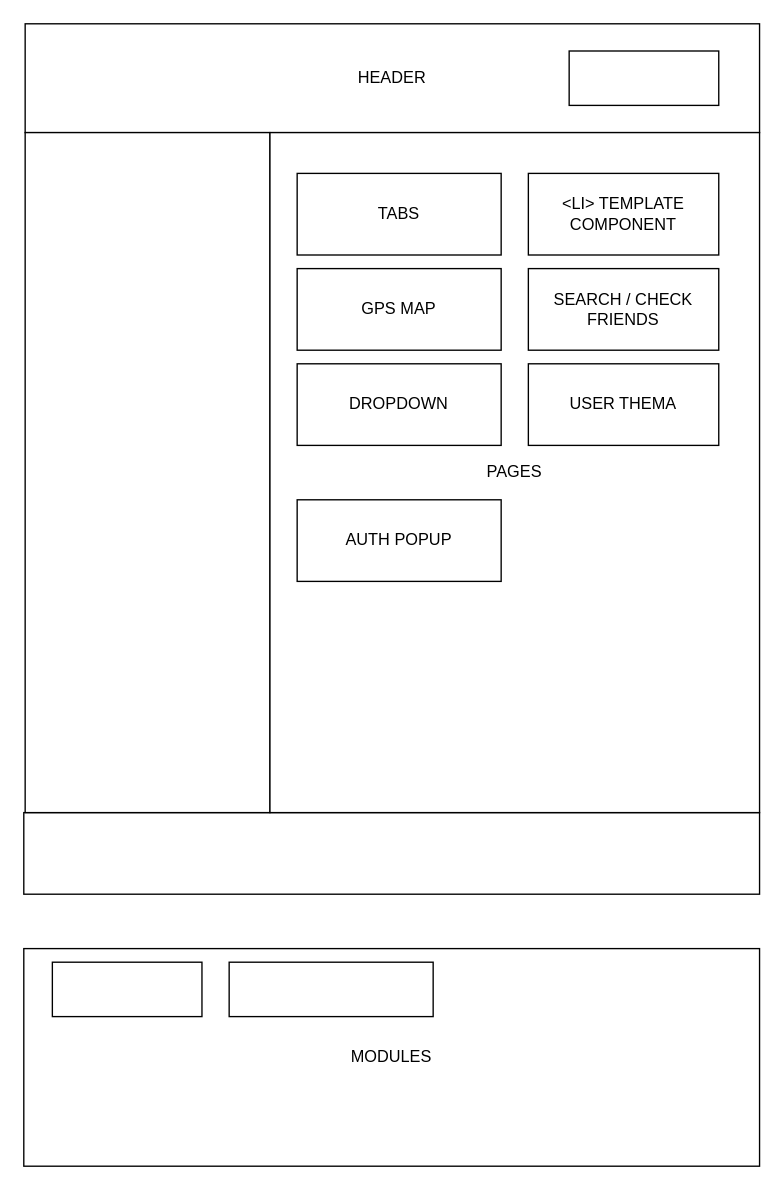
The diagram is 783 pixels wide and 1190 high, and some of its shapes have lost their labels. The shapes that lost their labels are listed below. From the top down, each one's centre as x and y in pixels, then its label:
pixel 643 77: USER PROFILE
pixel 147 472: LINKS / ROUTING
pixel 391 852: FOOTER
pixel 126 989: FETCH DATA
pixel 330 989: FETCH AUTH DATA
